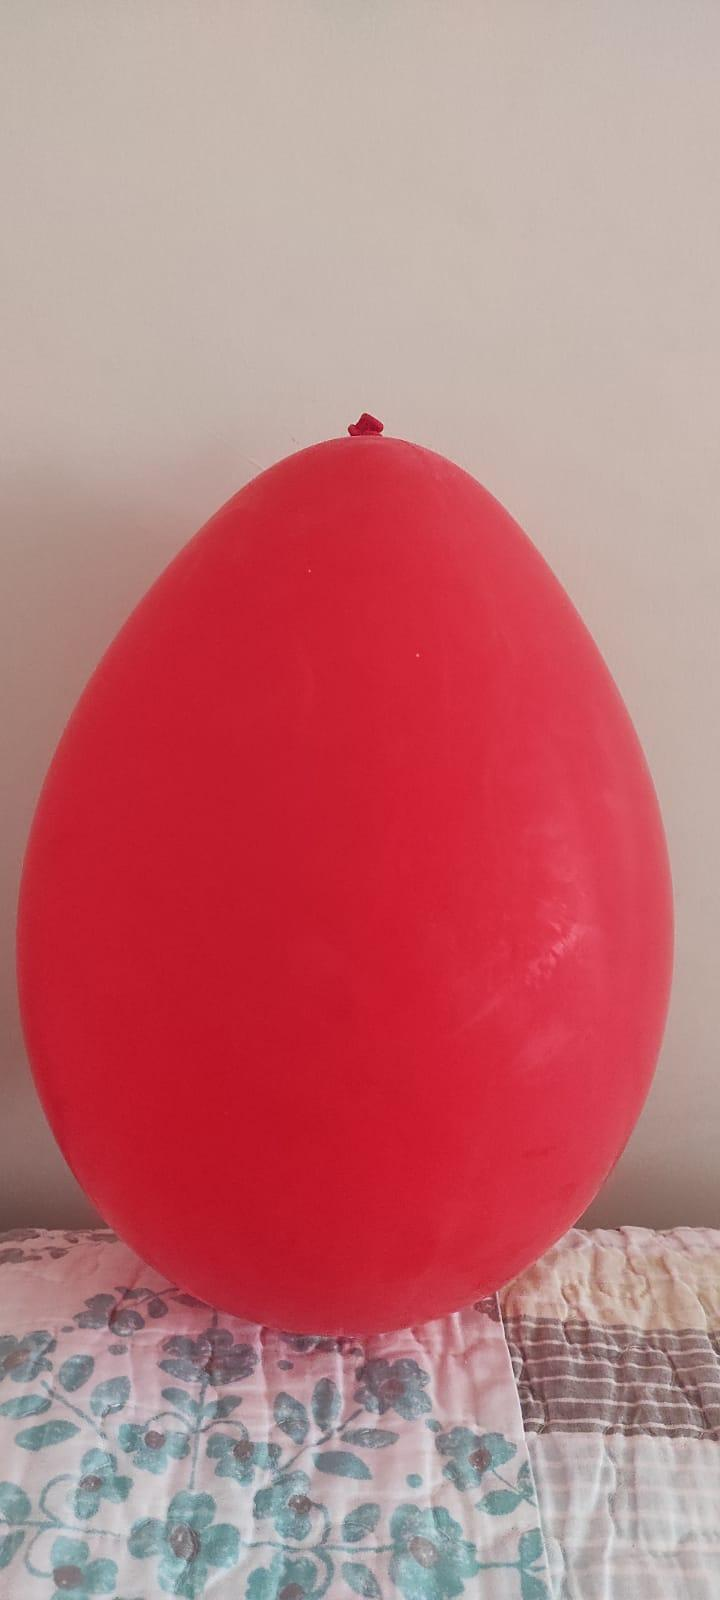red: (17, 404, 671, 1352)
